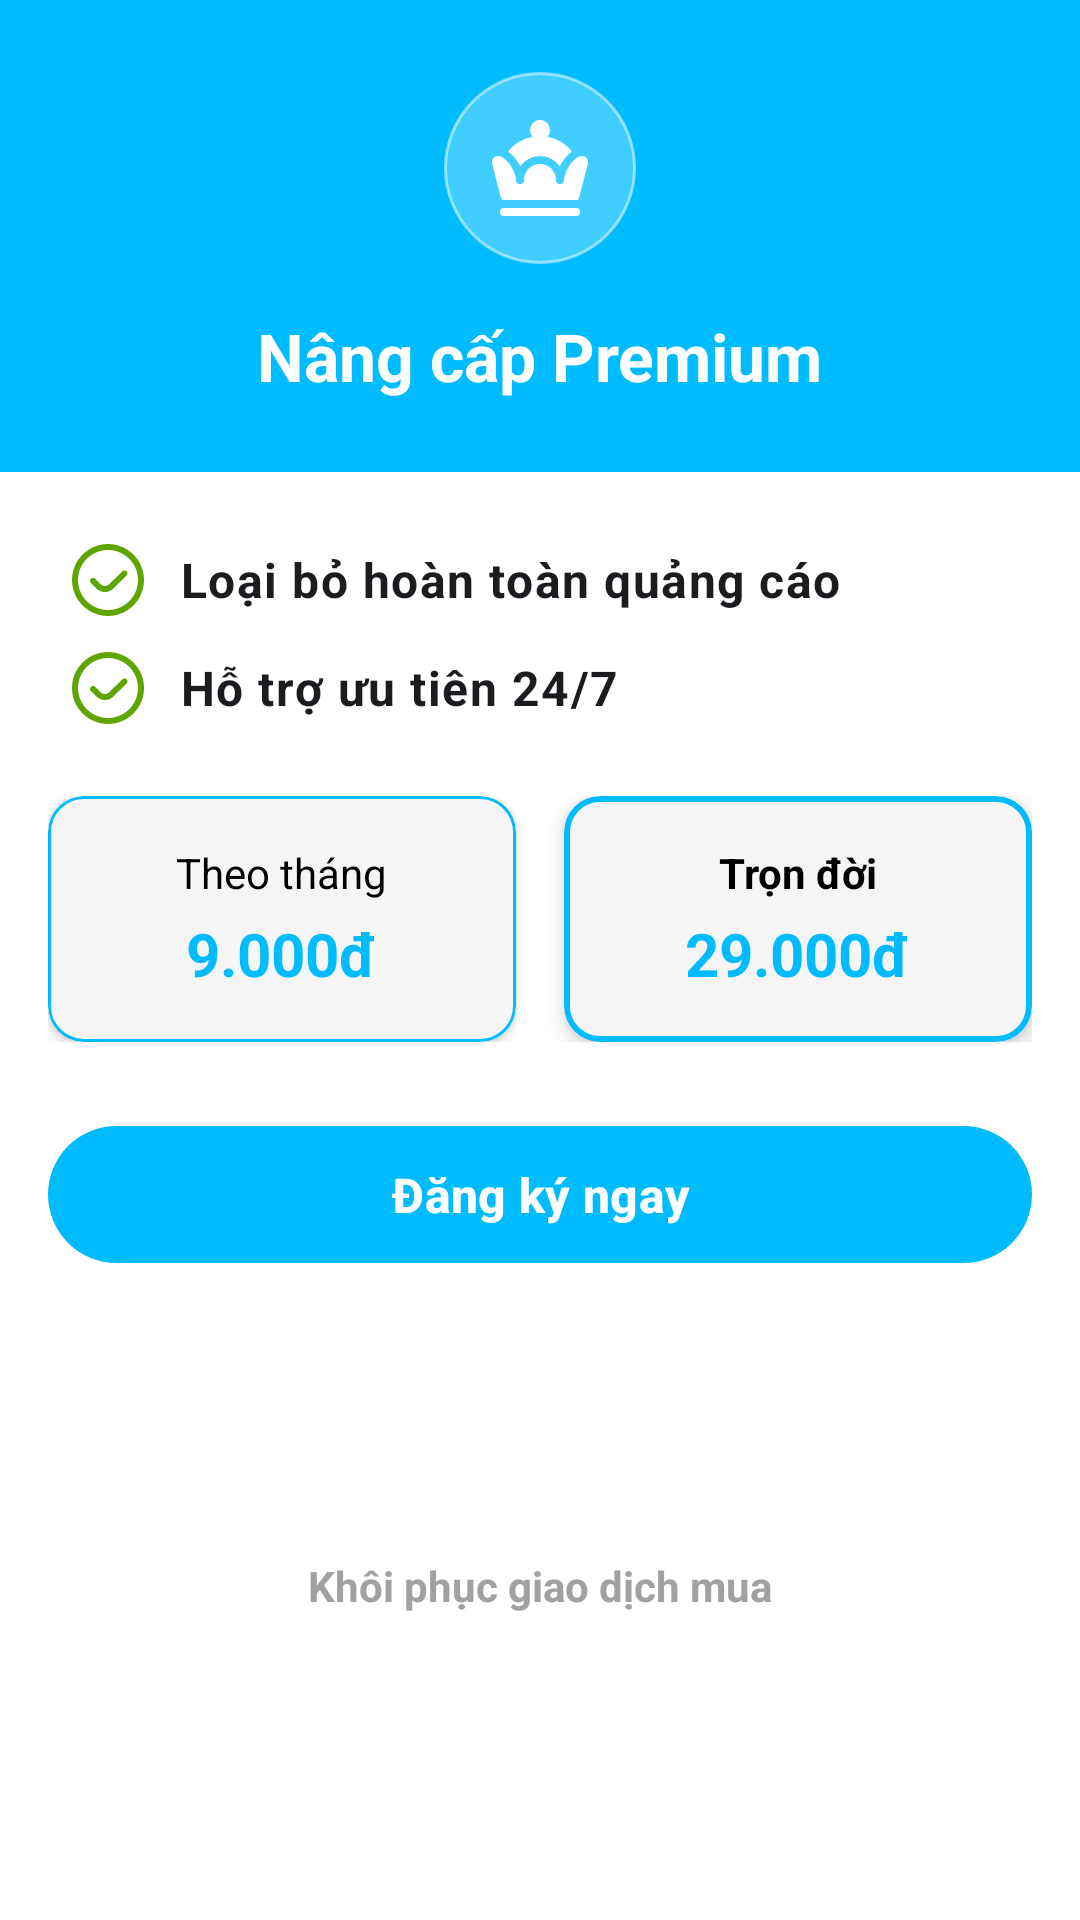

Icons on this 1080*1920 Android screen, each with the point to tap as [x,y]:
check circle: [108,580], [108,688]
